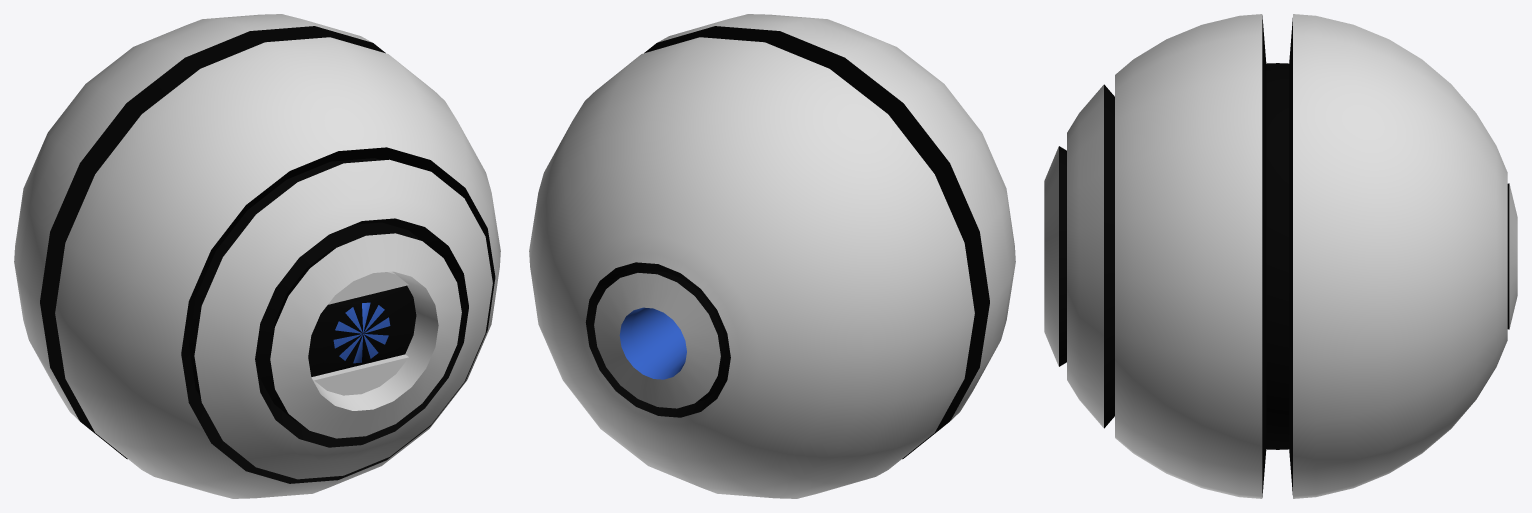
File: Drone.fbx
3 views of the same model, side by side, from view 1: azimuth 30°, elevation 25°; view 2: azimuth 150°, elevation 25°; view 3: azimuth 270°, elevation 25° (orthographic).
Visible parts, largest first — view 1: pSphere1; view 2: pSphere1; view 3: pSphere1.
Boxes of the visible parts, x1,y1,x2,y2 form: pSphere1: (14, 14, 500, 498); pSphere1: (529, 14, 1015, 498); pSphere1: (1044, 14, 1517, 498).
Bounding box in the file's own units: 24.34 × 24.34 × 23.58.
